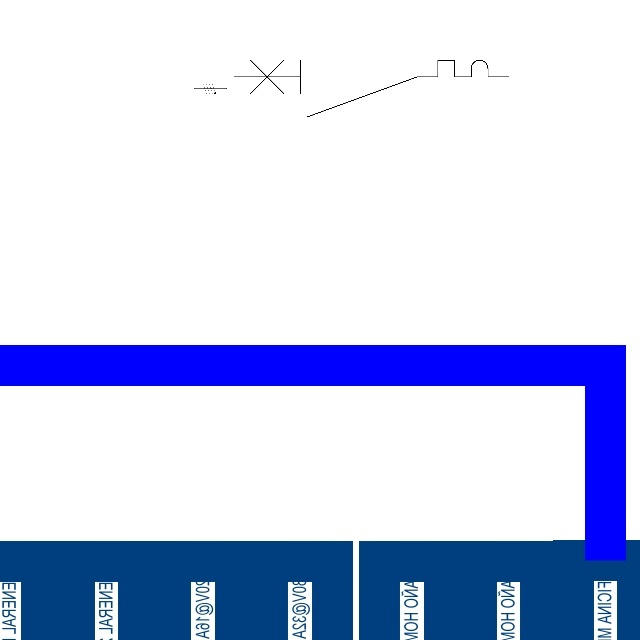interruptor_termomagnetico: (226, 53, 515, 123)
